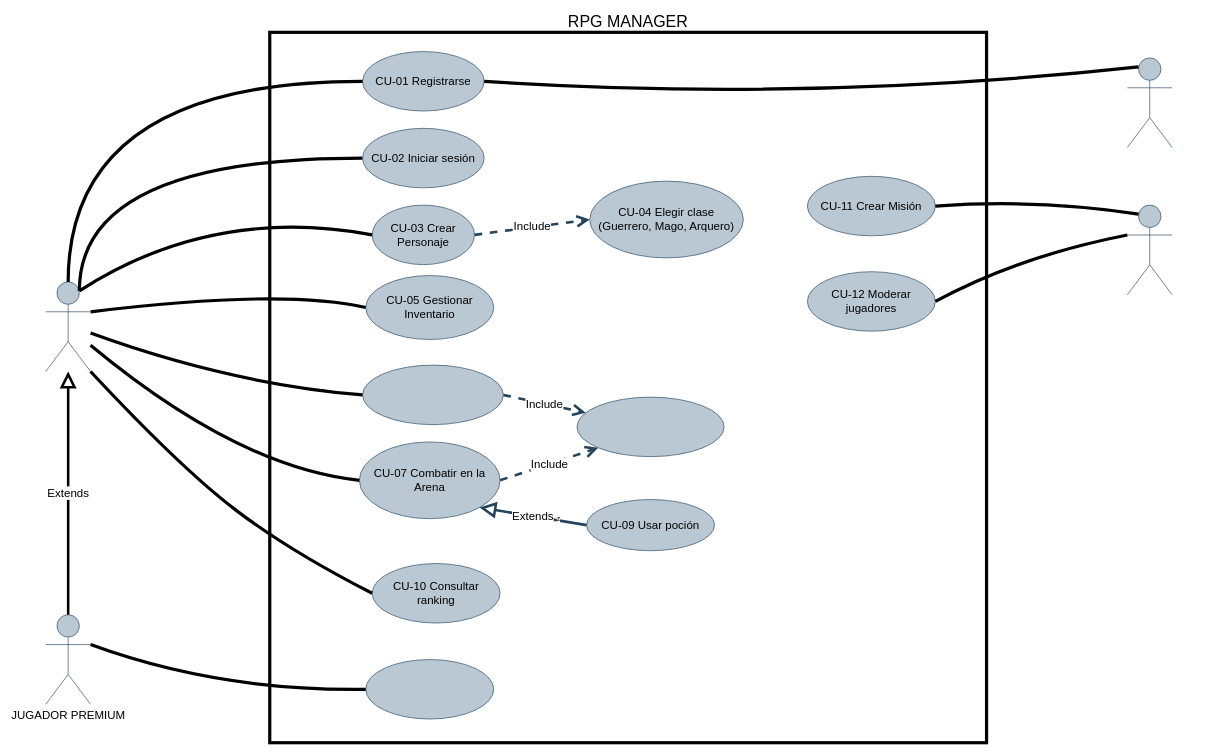
Some shapes in this 1224 by 755 pixel diagram are drawn without their labels. Each missing label, with the box of its shape:
CU-06 Unirse a Misión: (362, 364, 503, 425)
CU-08 Validar Personaje vivo: (576, 396, 724, 457)
CU-13 Comprar ítem exclusivo: (365, 659, 494, 719)
GAME MASTER: (1127, 204, 1172, 295)
JUGADOR: (45, 281, 91, 372)
SERVICIO DE CORREO: (1127, 57, 1172, 148)
